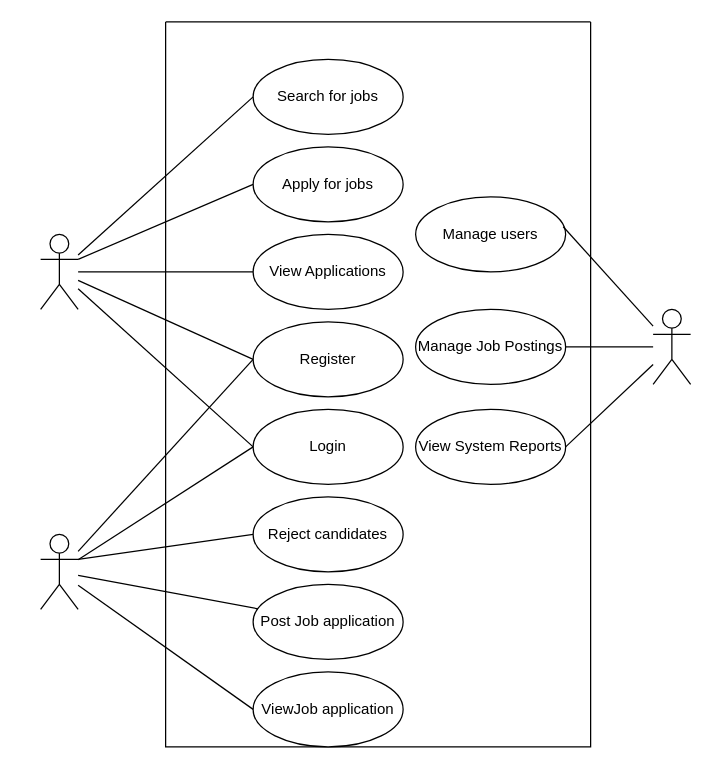
This 715x769 diagram has some shape labels left out. Each missing label, with the centre of its shape:
"Admin" belongs at (x=671, y=346).
"Employer" belongs at (x=58, y=571).
"Job Seeker" belongs at (x=58, y=271).
